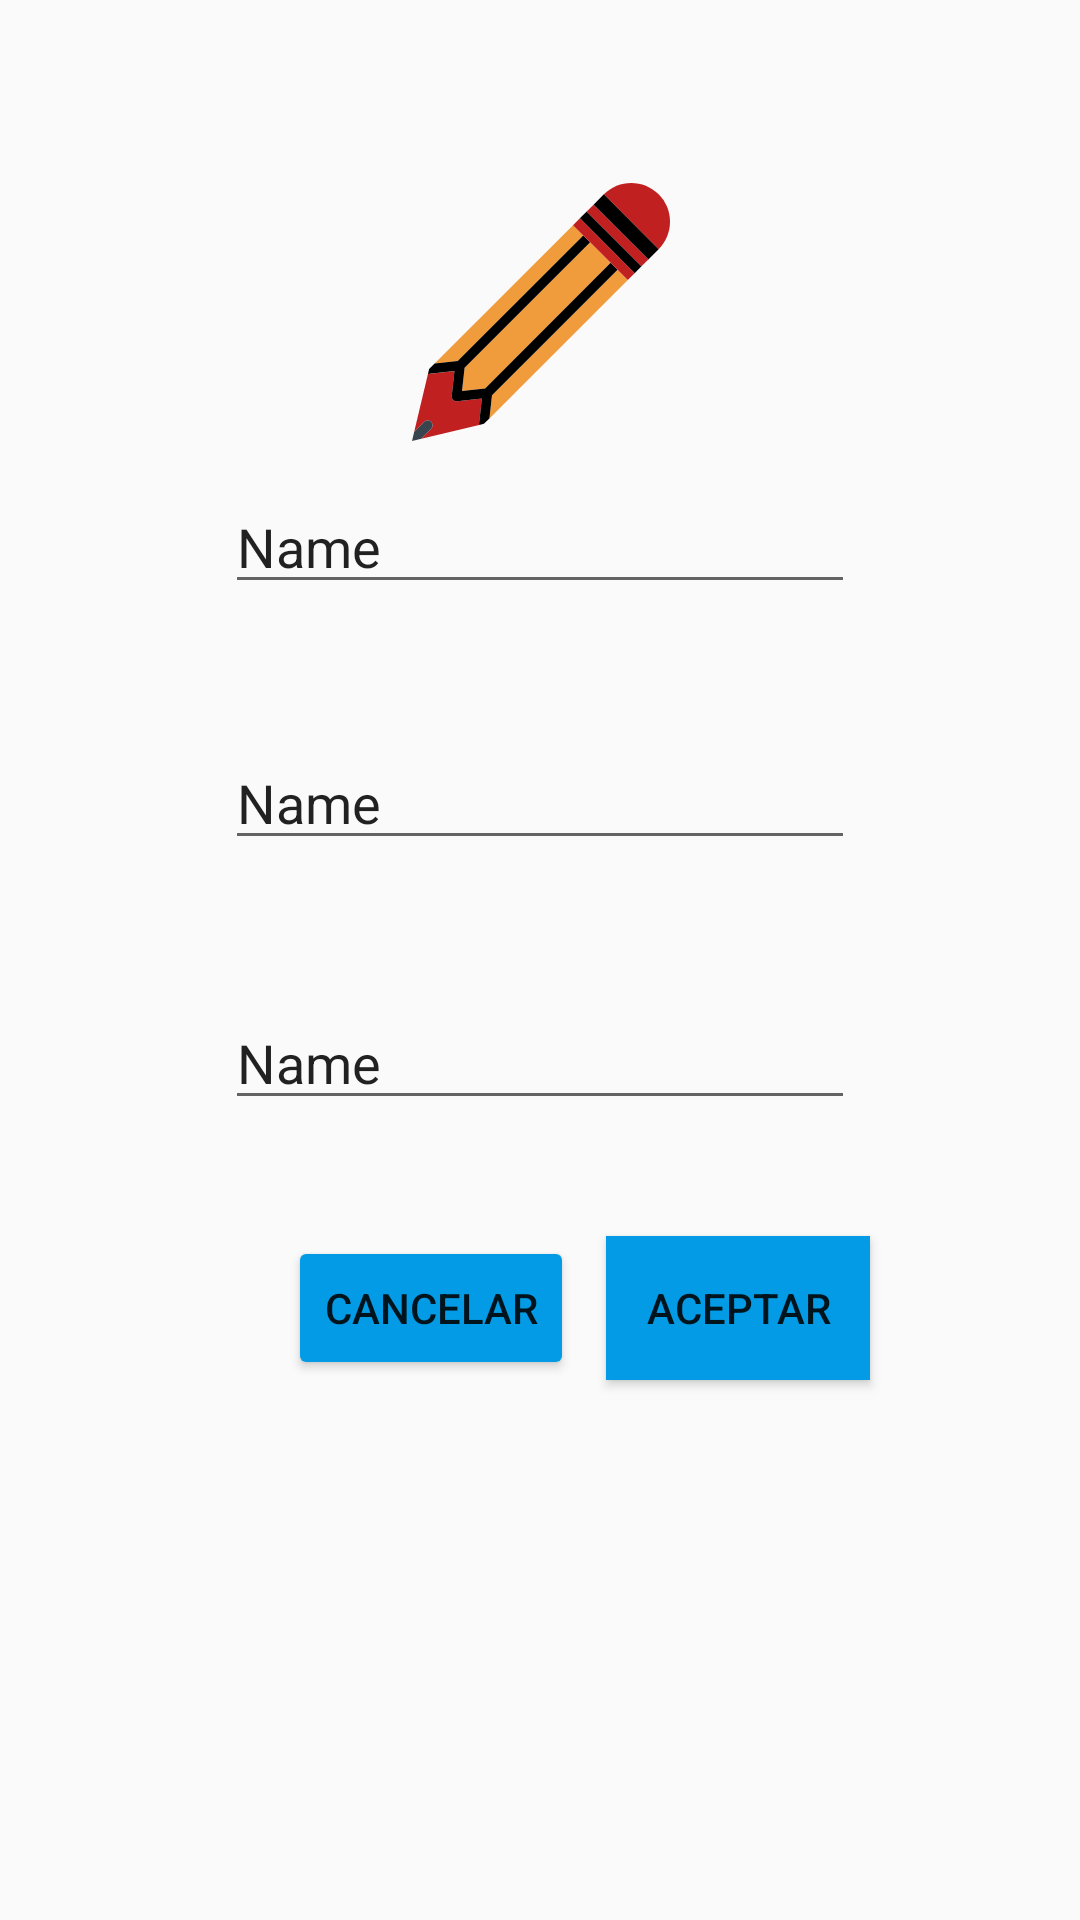

Named icons in this screenshot (1080 x 1920) and their centers, (x=x, y=y):
edit: (x=541, y=312)
